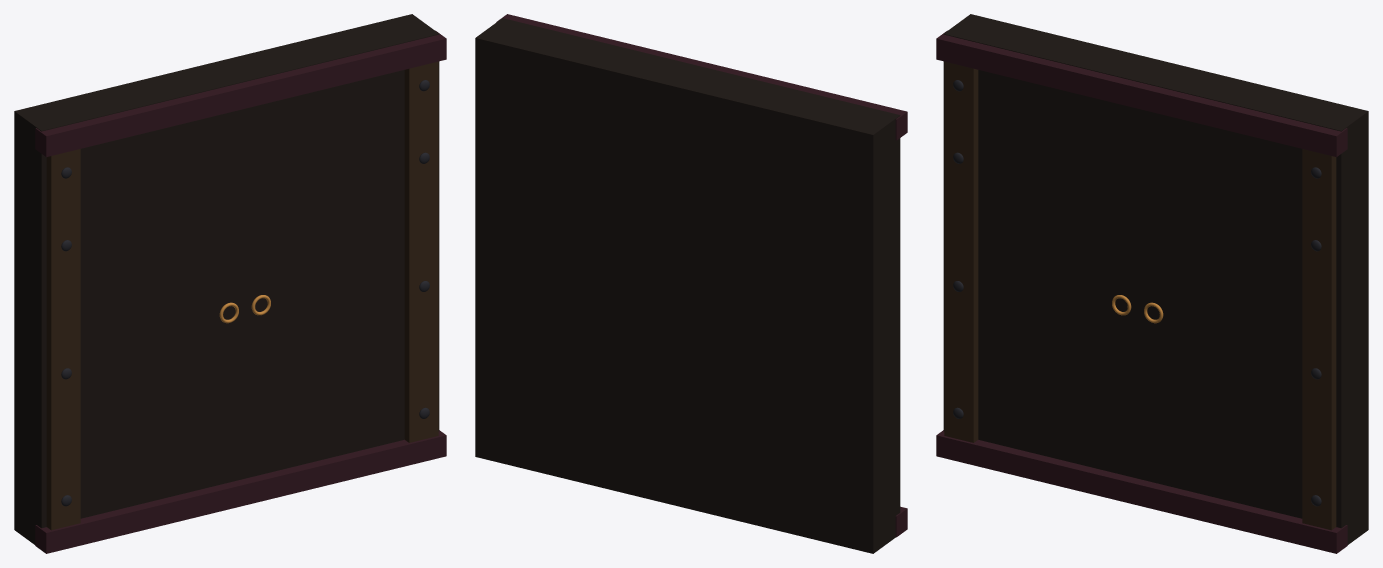
File: mia-gwimun.glb
3 views of the same model, side by side, from view 1: azimuth 30°, elevation 25°; view 2: azimuth 150°, elevation 25°; view 3: azimuth 330°, elevation 25° (orthographic).
Visible parts, largest first — view 1: Body_black, Body_grain, Body_dark, Body_iron; view 2: Body_black, Body_dark; view 3: Body_black, Body_grain, Body_dark, Body_iron.
Part boxes in pixels (bbox=[...]): Body_black: bbox=[14, 14, 439, 544]; Body_grain: bbox=[46, 61, 438, 530]; Body_dark: bbox=[35, 30, 446, 553]; Body_iron: bbox=[61, 80, 429, 506]; Body_black: bbox=[475, 18, 900, 553]; Body_dark: bbox=[496, 14, 907, 537]; Body_black: bbox=[943, 14, 1368, 544]; Body_grain: bbox=[944, 61, 1336, 530]; Body_dark: bbox=[936, 30, 1347, 553]; Body_iron: bbox=[953, 80, 1321, 506].
Size of the model in its own units: 3.4 by 3.4 by 0.494.
